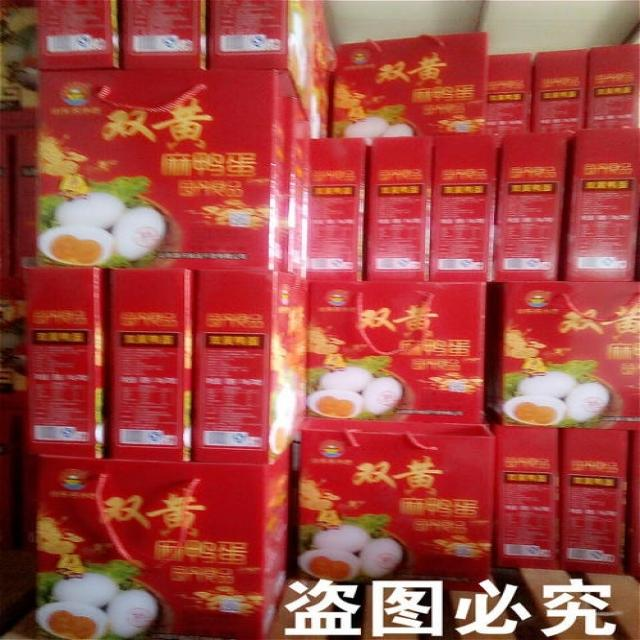box: (32, 431, 295, 639), (34, 65, 294, 268), (299, 416, 496, 591), (306, 279, 484, 423), (483, 281, 639, 430), (193, 270, 312, 462), (105, 266, 193, 461), (329, 32, 487, 137), (26, 267, 104, 457), (207, 0, 320, 121), (561, 127, 638, 281), (493, 131, 570, 282), (492, 418, 561, 570), (560, 426, 630, 575), (364, 135, 432, 282), (306, 138, 373, 281), (430, 132, 493, 284), (2, 450, 39, 639), (119, 1, 211, 69), (33, 0, 121, 67), (0, 272, 26, 452), (531, 48, 588, 130), (286, 96, 311, 281), (587, 46, 639, 127), (309, 2, 337, 139), (9, 126, 35, 273), (1, 0, 34, 108), (486, 53, 532, 130), (622, 428, 639, 575), (0, 124, 8, 273), (0, 105, 33, 128)
